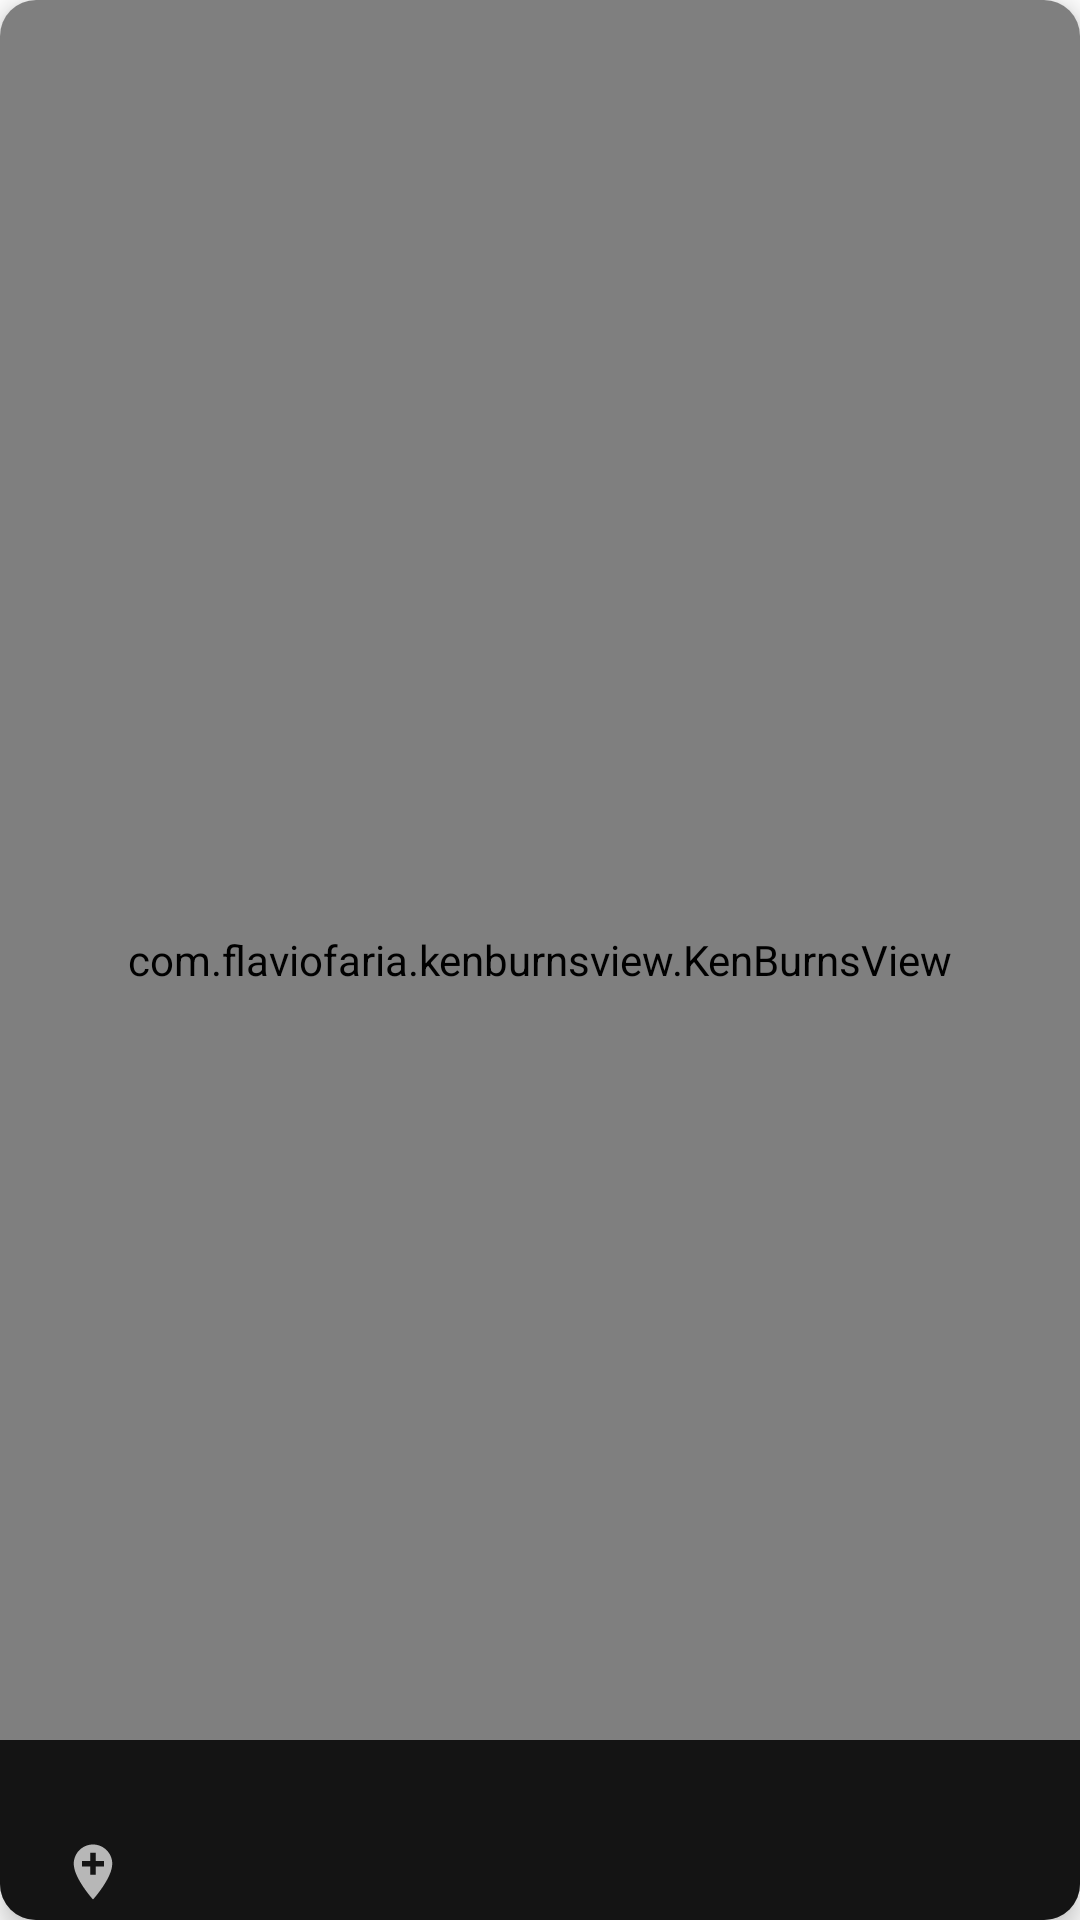

Named icons in this screenshot (1080 x 1920) and their centers, point (x, y):
address: point (93, 1871)
